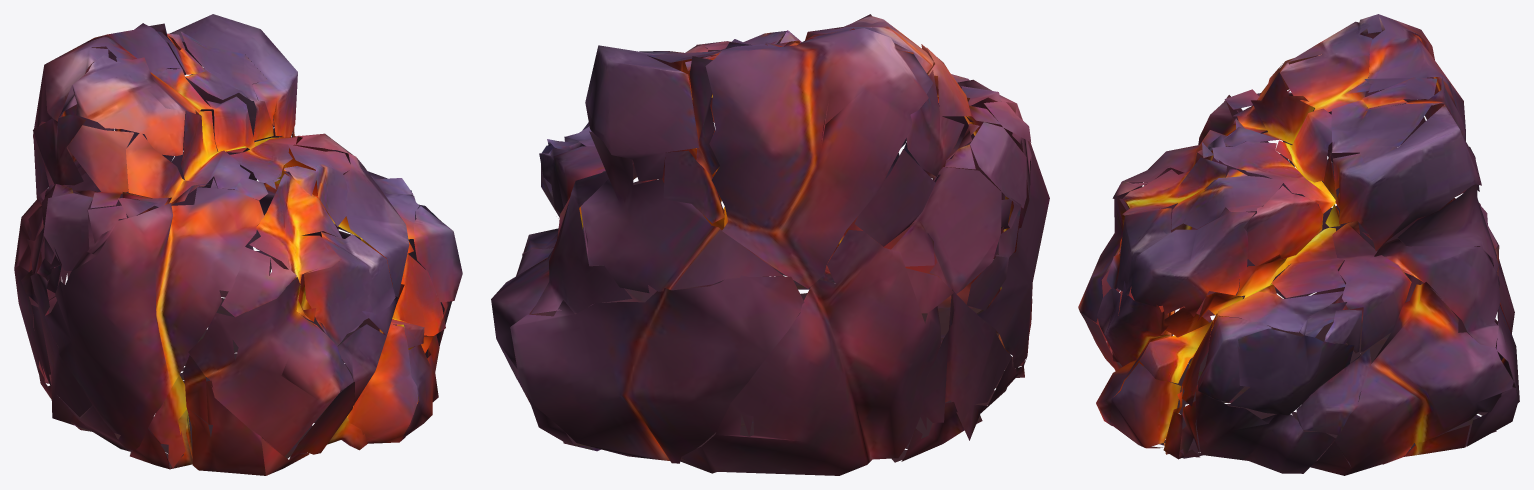
The model's file is rocha.glb.
3 views of the same model, side by side, from view 1: azimuth 30°, elevation 25°; view 2: azimuth 150°, elevation 25°; view 3: azimuth 270°, elevation 25° (orthographic). The views are drawn at different scales.
Visible parts, largest first — view 1: rocha; view 2: rocha; view 3: rocha.
Part boxes in pixels (x1,y1,x2,y2): rocha: [14, 14, 462, 475]; rocha: [491, 14, 1049, 475]; rocha: [1078, 14, 1519, 475].
Size of the model in its own units: 1.16 by 1 by 1.2.
Materials: 1 (1 with a texture image).
